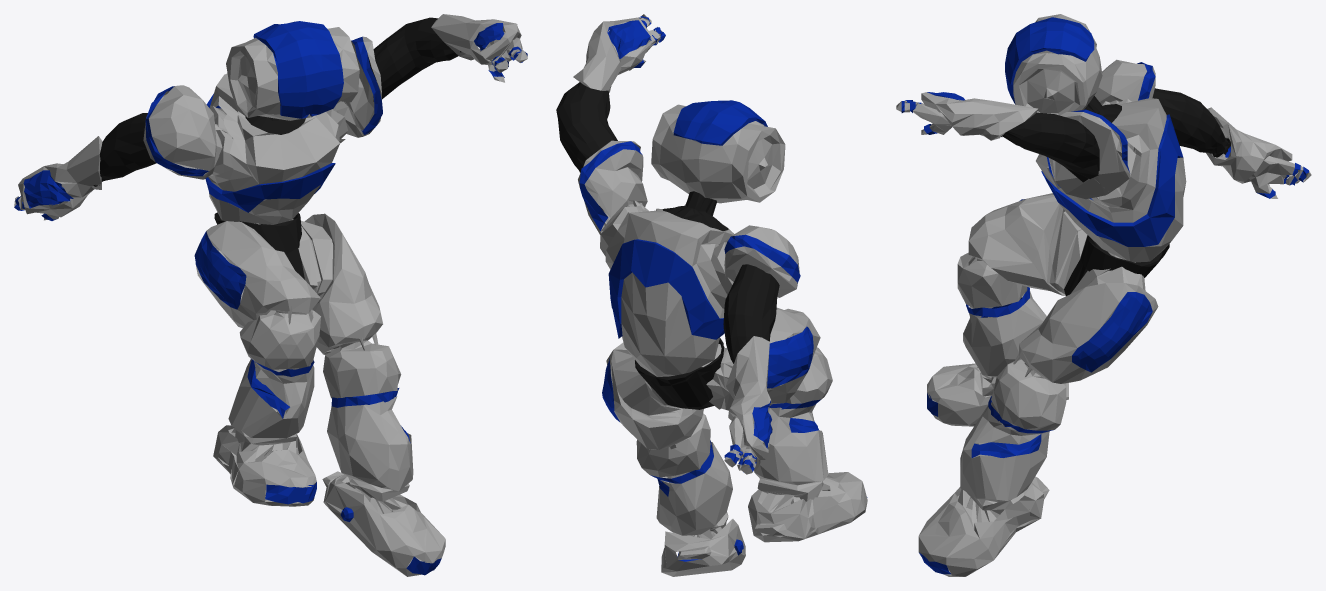
The model's file is run_jump8.obj.
3 views of the same model, side by side, from view 1: azimuth 30°, elevation 25°; view 2: azimuth 150°, elevation 25°; view 3: azimuth 270°, elevation 25° (orthographic). The views are drawn at different scales.
Parts seen in each view (by area): view 1: Robot2.001_Robot2Mesh.000, Robot2_Robot2Mesh.001, Robot2.002_Robot2Mesh.002; view 2: Robot2.001_Robot2Mesh.000, Robot2_Robot2Mesh.001, Robot2.002_Robot2Mesh.002; view 3: Robot2.001_Robot2Mesh.000, Robot2_Robot2Mesh.001, Robot2.002_Robot2Mesh.002.
Part boxes in pixels (left/top/right/bottom): Robot2.001_Robot2Mesh.000: left=14, top=14, right=527, bottom=576; Robot2_Robot2Mesh.001: left=14, top=21, right=527, bottom=575; Robot2.002_Robot2Mesh.002: left=93, top=17, right=461, bottom=279; Robot2.001_Robot2Mesh.000: left=573, top=14, right=867, bottom=576; Robot2_Robot2Mesh.001: left=579, top=16, right=867, bottom=561; Robot2.002_Robot2Mesh.002: left=556, top=82, right=779, bottom=409; Robot2.001_Robot2Mesh.000: left=896, top=14, right=1311, bottom=576; Robot2_Robot2Mesh.001: left=901, top=17, right=1308, bottom=574; Robot2.002_Robot2Mesh.002: left=1001, top=88, right=1230, bottom=295.
Bounding box in the file's own units: 1.36 × 2.03 × 1.49.
